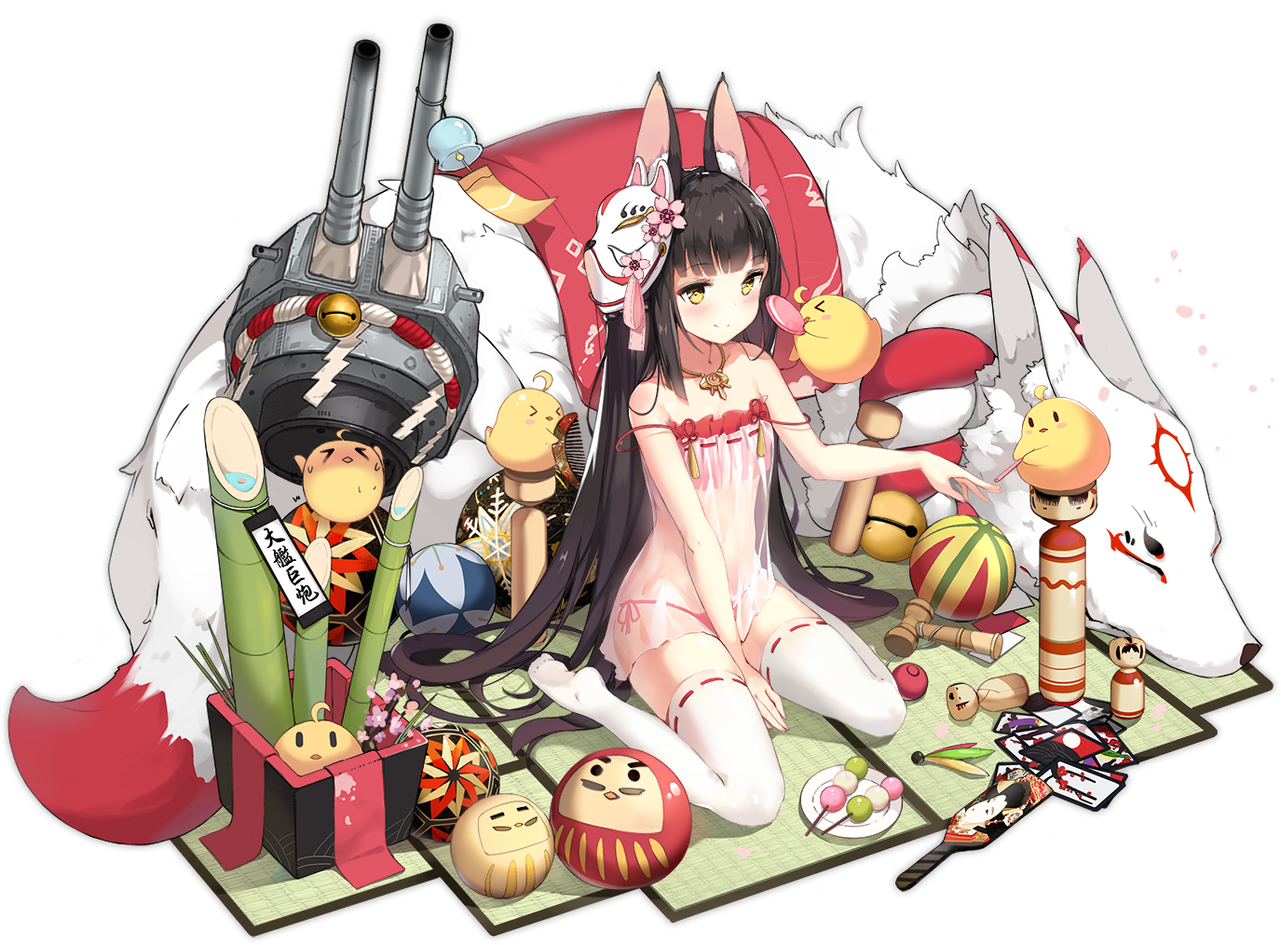person: (84, 21, 584, 939)
